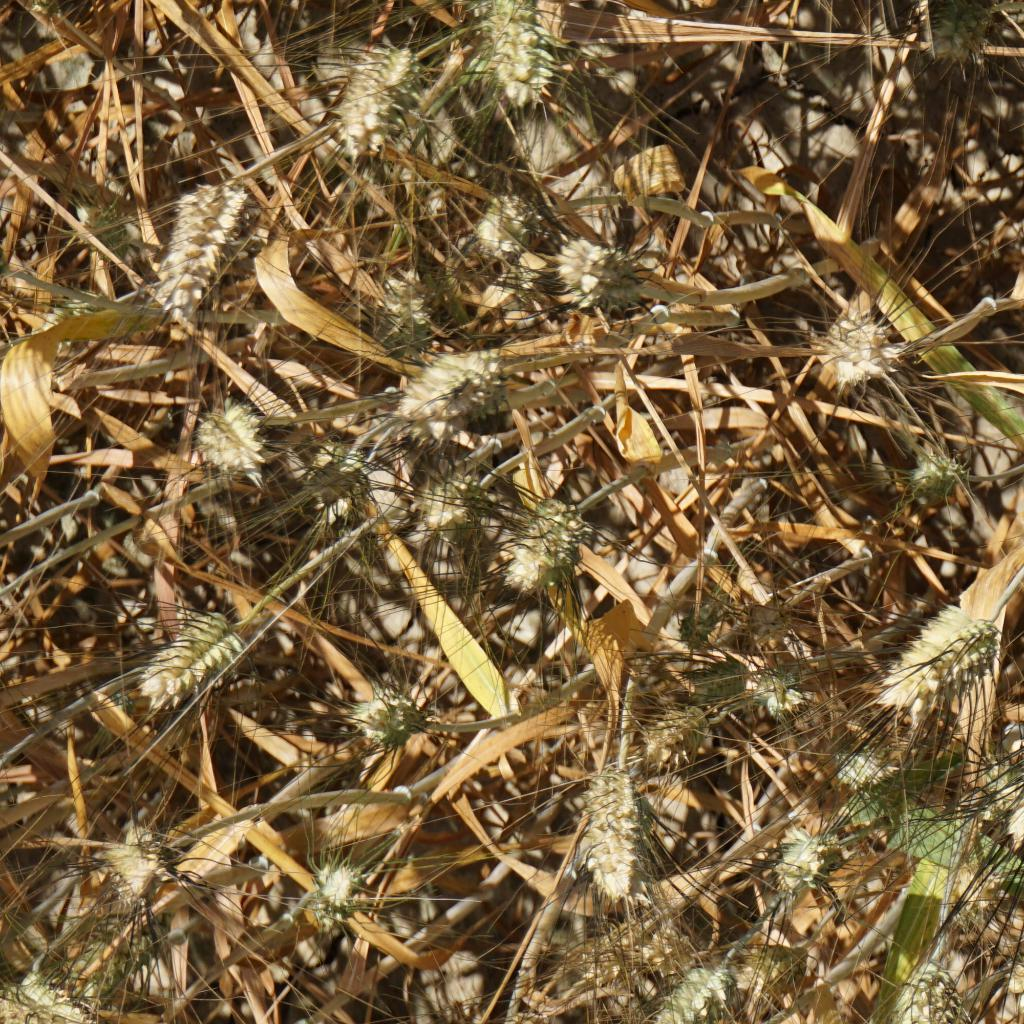0-0: (128, 604, 260, 719), (148, 183, 250, 318), (884, 609, 1004, 714), (574, 764, 659, 896), (471, 0, 565, 108), (95, 817, 185, 912), (808, 311, 893, 397), (59, 916, 145, 1000), (506, 509, 592, 589), (403, 479, 504, 546), (546, 237, 638, 310), (727, 925, 816, 991), (586, 909, 679, 972), (348, 685, 438, 749), (410, 346, 487, 417), (335, 61, 394, 153), (192, 400, 266, 473), (470, 187, 539, 263), (300, 439, 367, 512), (372, 267, 437, 339), (766, 819, 835, 885), (643, 705, 714, 769), (656, 963, 729, 1024), (75, 195, 135, 268), (888, 967, 964, 1024), (995, 705, 1024, 854), (304, 855, 370, 920), (935, 869, 1004, 930), (894, 451, 968, 506), (748, 657, 809, 714), (355, 46, 424, 96), (665, 589, 721, 642), (834, 750, 893, 791), (685, 658, 745, 695), (999, 934, 1024, 1011), (742, 595, 786, 637), (31, 0, 71, 29)
